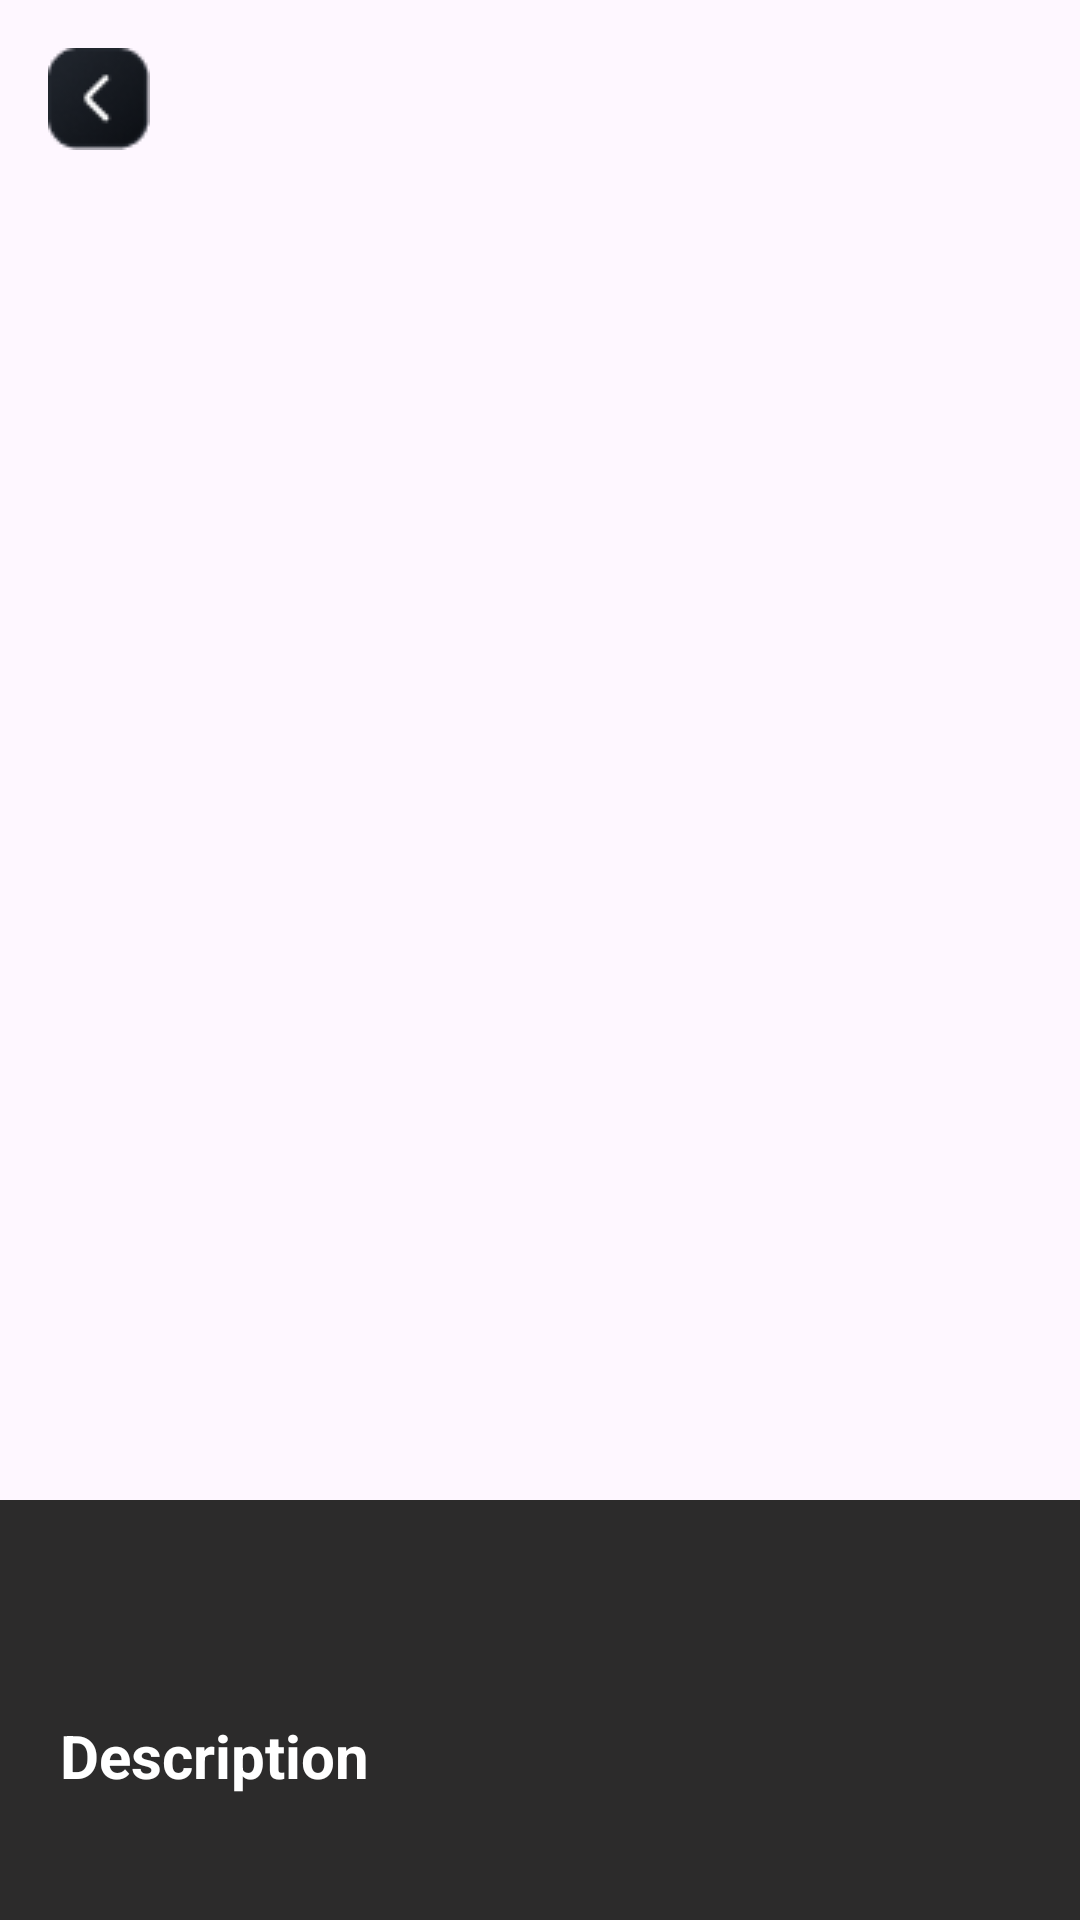

Point at icon controls on the screen. Image size 1080 × 1920, points as (x=x, y=y).
Back: (x=99, y=99)
